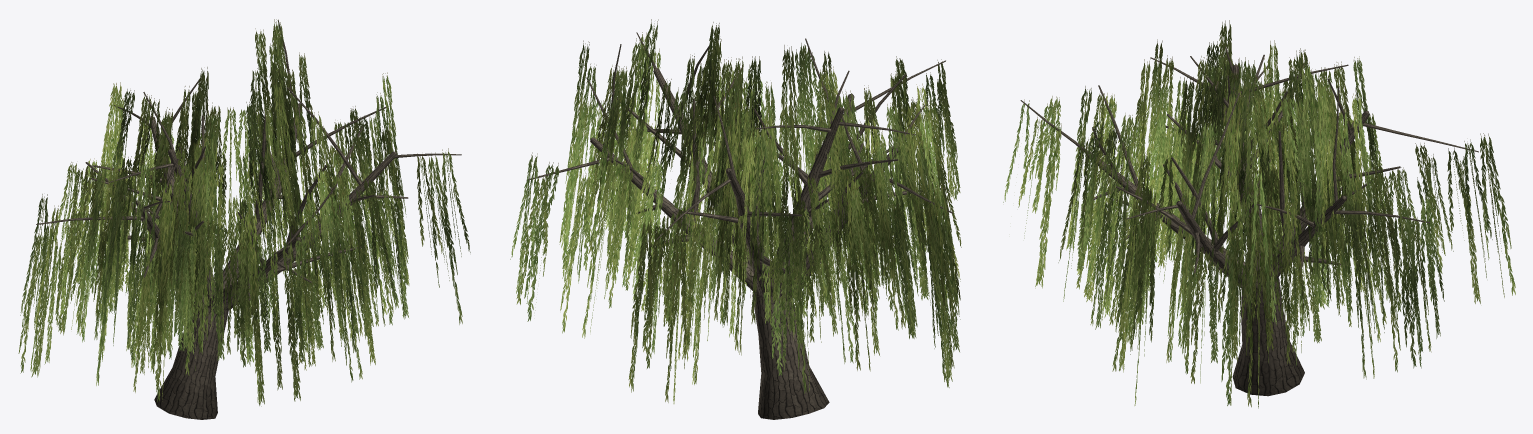
The model's file is willow.glb.
3 views of the same model, side by side, from view 1: azimuth 30°, elevation 25°; view 2: azimuth 150°, elevation 25°; view 3: azimuth 270°, elevation 25° (orthographic). The views are drawn at different scales.
Parts seen in each view (by area): view 1: willow; view 2: willow; view 3: willow.
Boxes of the visible parts, left/top/right/bottom form: willow: left=18, top=19, right=470, bottom=419; willow: left=510, top=19, right=961, bottom=419; willow: left=1003, top=20, right=1515, bottom=408.
Size of the model in its own units: 12.79 by 11.04 by 13.72.
2 materials, 2 textured.
